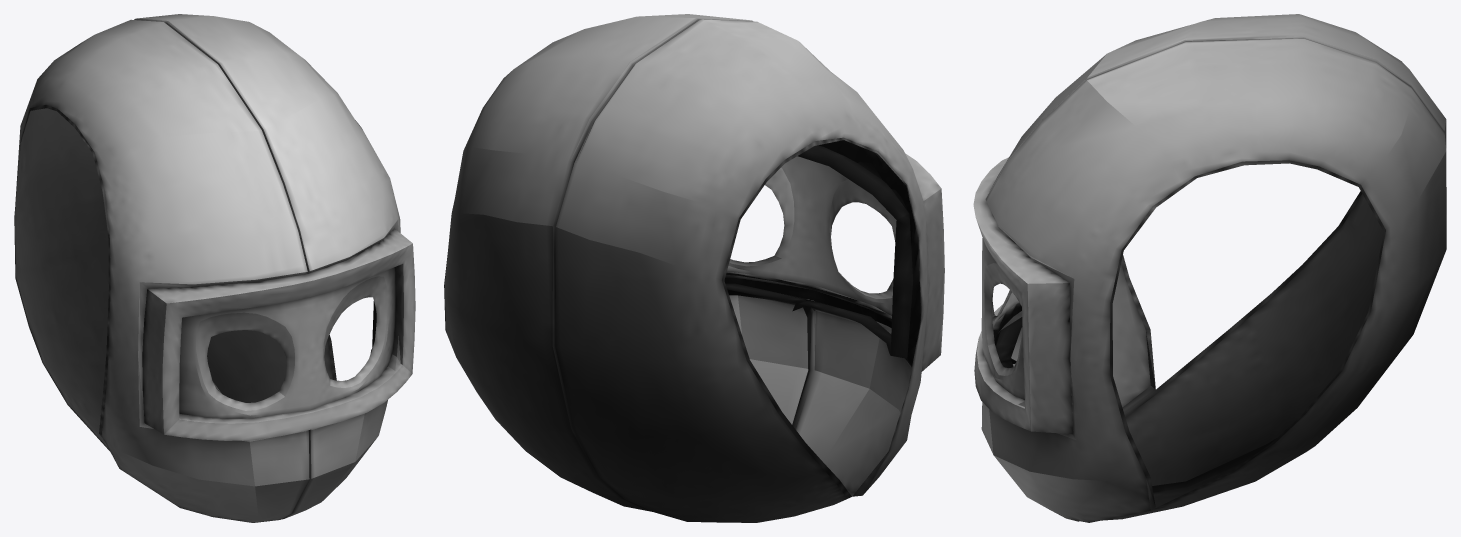
The model's file is head.obj.
3 renders of one model, left to right at view 1: azimuth 30°, elevation 25°; view 2: azimuth 150°, elevation 25°; view 3: azimuth 270°, elevation 25°, orthographic. The views are drawn at different scales.
Parts seen in each view (by area): view 1: head.obj; view 2: head.obj; view 3: head.obj.
Boxes of the visible parts, left/top/right/bottom form: head.obj: left=14, top=14, right=415, bottom=522; head.obj: left=444, top=14, right=944, bottom=522; head.obj: left=973, top=14, right=1446, bottom=522.
Size of the model in its own units: 0.1745 by 0.2397 by 0.2215.
1 material, 1 textured.
